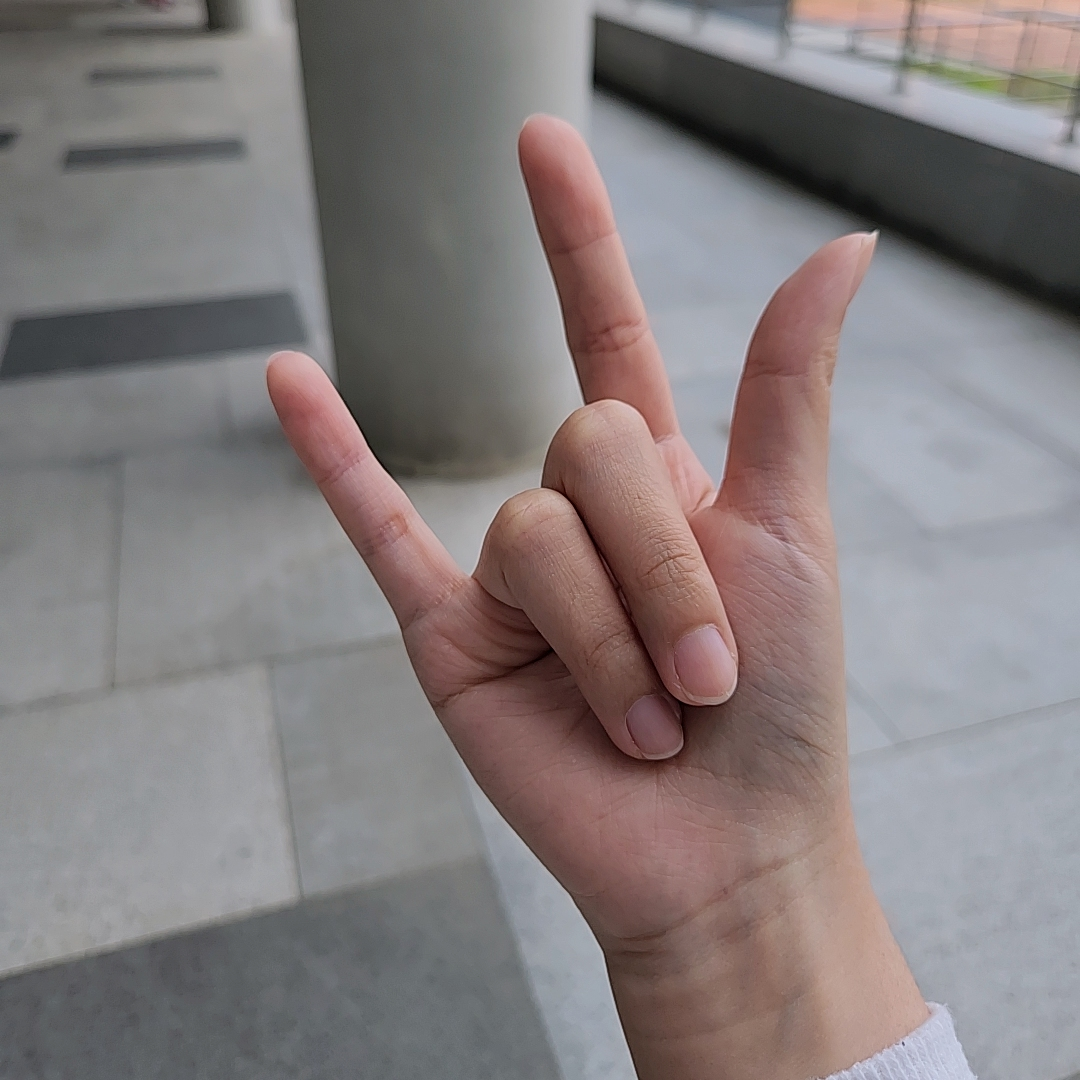iloveyou: (267, 114, 881, 905)
